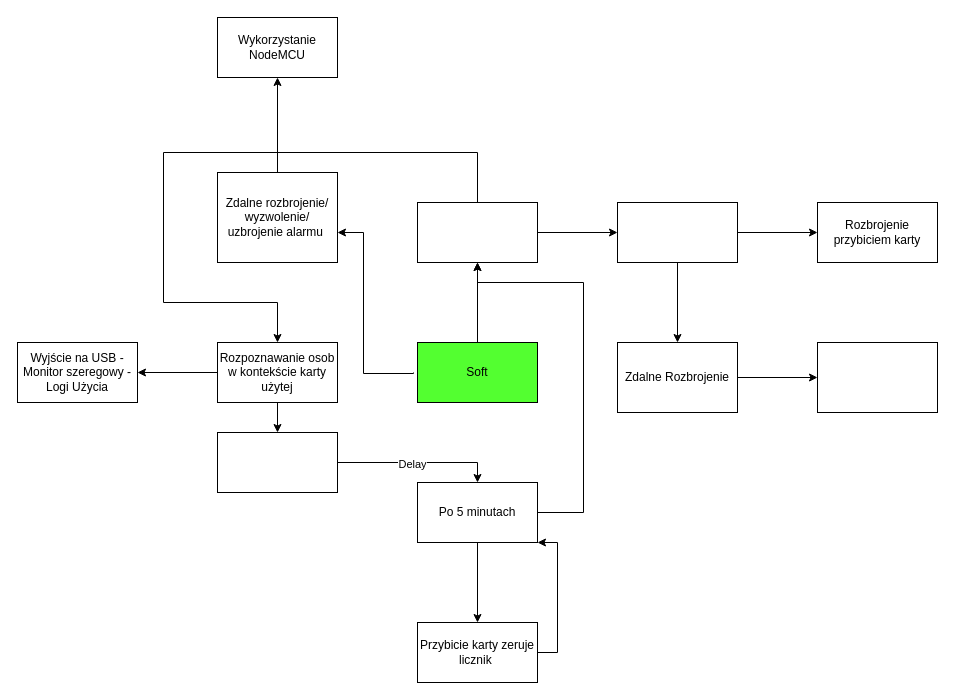
Image size: 955x700. Some labels were removed from this diagram. The shapes that lost their labels are listed below. From the top down, each one's centre as x and y in pixels, then its label:
the point at 477,232: Po wykryciu ruchu czekać przez 15s na odczytanie karty,
the point at 677,232: IF Brak karty --> Przekaźnik zmiana stanu - ALARM
the point at 877,377: Komenda przez monitor szeregowy? USB
the point at 277,462: Rozbrojenie
